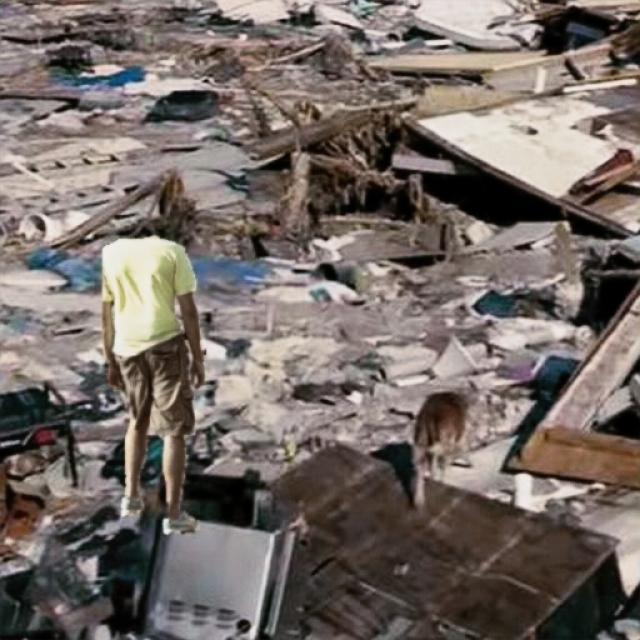Person in Rubble: (102, 235, 206, 534)
